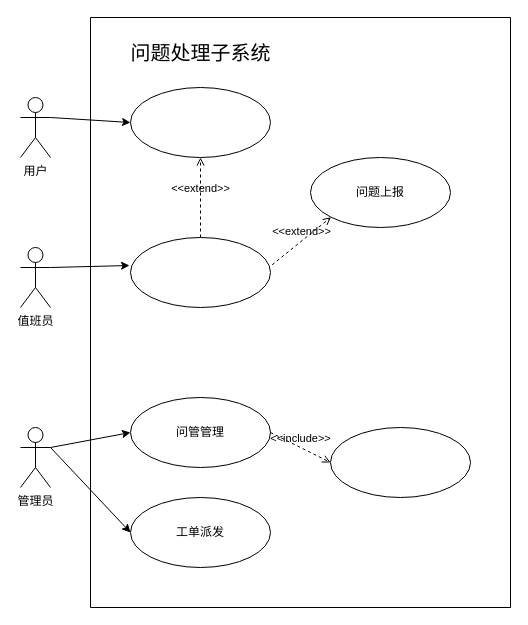
This 528x625 diagram has some shape labels left out. The shapes that lost their labels are listed below. From the top down, each one's centre as x and y in pixels, then its label:
At [200,122]: "问题提交".
At [200,272]: "问题处理".
At [400,462]: "问题参数设置".
